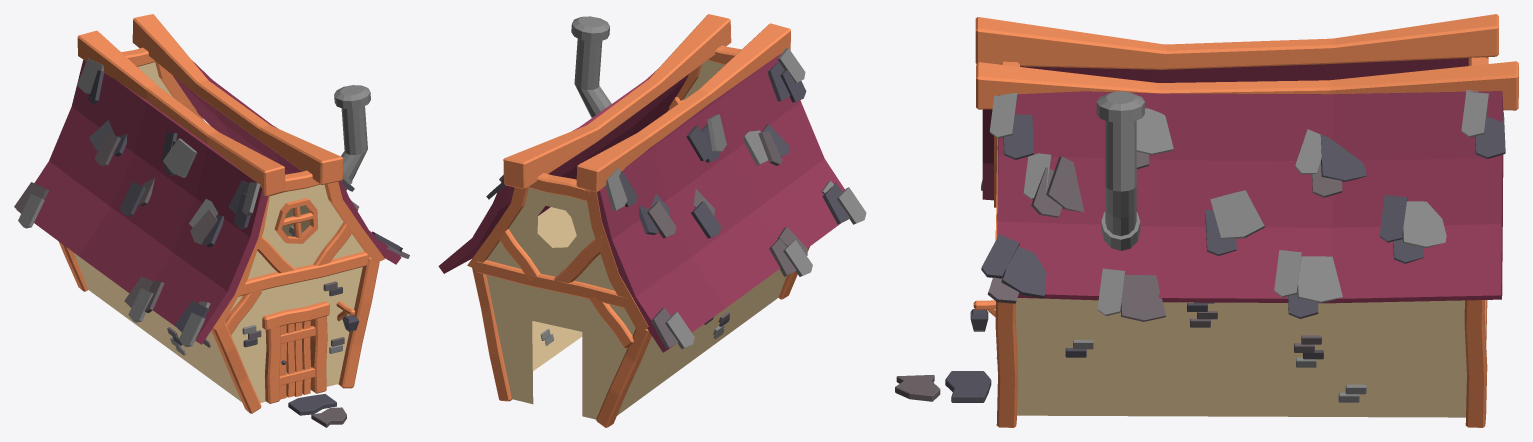
The model's file is KrisTempHouse.fbx.
3 renders of one model, left to right at view 1: azimuth 30°, elevation 25°; view 2: azimuth 150°, elevation 25°; view 3: azimuth 270°, elevation 25°, orthographic. The views are drawn at different scales.
Parts seen in each view (by area): view 1: Plane.001, Cube.024, Plane, Plane.003, Plane.002, Cylinder, Cube, Cube.002, Cube.001, Cube.004, Cube.011, Cube.010 (+28 smaller); view 2: Plane.001, Plane.005, Cube.024, Plane.003, Plane.002, Cylinder, Plane.004, Cube.014, Cube.013, Cube.012, Cube.015, Cube.016 (+21 smaller); view 3: Plane.002, Plane.004, Cube.024, Plane.001, Cylinder, Cube.012, Cube, Cube.063, Cube.075, Cube.077, Cube.080, Cube.065 (+18 smaller).
Boxes of the visible parts, x1=… form: Plane.001: x1=17, y1=60, x2=268, y2=344; Cube.024: x1=77, y1=14, x2=343, y2=196; Plane: x1=229, y1=184, x2=363, y2=402; Plane.003: x1=74, y1=253, x2=241, y2=401; Plane.002: x1=173, y1=60, x2=401, y2=264; Cylinder: x1=334, y1=85, x2=370, y2=190; Cube: x1=338, y1=257, x2=379, y2=388; Cube.002: x1=238, y1=251, x2=369, y2=296; Cube.001: x1=211, y1=321, x2=261, y2=413; Cube.004: x1=324, y1=181, x2=384, y2=263; Cube.011: x1=310, y1=316, x2=327, y2=393; Cube.010: x1=264, y1=326, x2=280, y2=403; Plane.001: x1=597, y1=54, x2=844, y2=352; Plane.005: x1=486, y1=188, x2=635, y2=419; Cube.024: x1=503, y1=14, x2=790, y2=192; Plane.003: x1=617, y1=269, x2=786, y2=415; Plane.002: x1=438, y1=69, x2=688, y2=273; Cylinder: x1=571, y1=16, x2=611, y2=117; Plane.004: x1=532, y1=207, x2=582, y2=370; Cube.014: x1=476, y1=260, x2=630, y2=308; Cube.013: x1=596, y1=328, x2=651, y2=427; Cube.012: x1=472, y1=268, x2=512, y2=401; Cube.015: x1=585, y1=189, x2=648, y2=334; Cube.016: x1=467, y1=187, x2=528, y2=269; Plane.002: x1=997, y1=91, x2=1503, y2=303; Plane.004: x1=1015, y1=298, x2=1466, y2=417; Cube.024: x1=975, y1=14, x2=1518, y2=110; Plane.001: x1=982, y1=58, x2=1468, y2=200; Cylinder: x1=1096, y1=91, x2=1144, y2=250; Cube.012: x1=1464, y1=300, x2=1487, y2=427; Cube: x1=995, y1=301, x2=1017, y2=427; Cube.063: x1=1210, y1=190, x2=1264, y2=238; Cube.075: x1=1297, y1=256, x2=1342, y2=303; Cube.077: x1=1120, y1=275, x2=1166, y2=321; Cube.080: x1=1402, y1=201, x2=1446, y2=247; Cube.065: x1=1001, y1=247, x2=1046, y2=298.
Size of the model in its own units: 4275 by 4562 by 7110.
